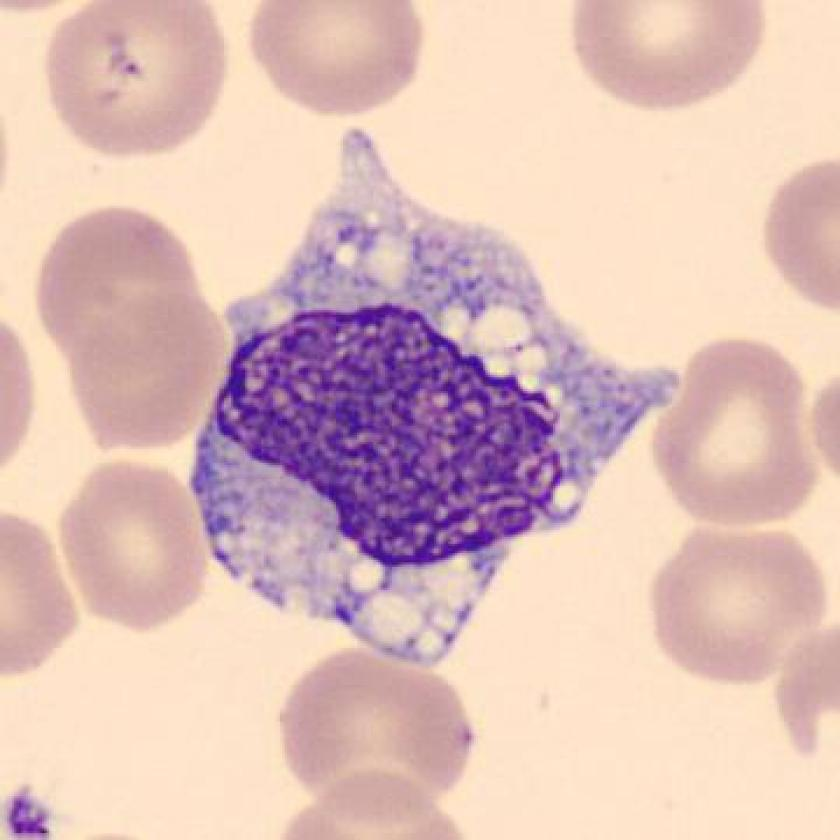monocyte: (181, 107, 694, 686)
